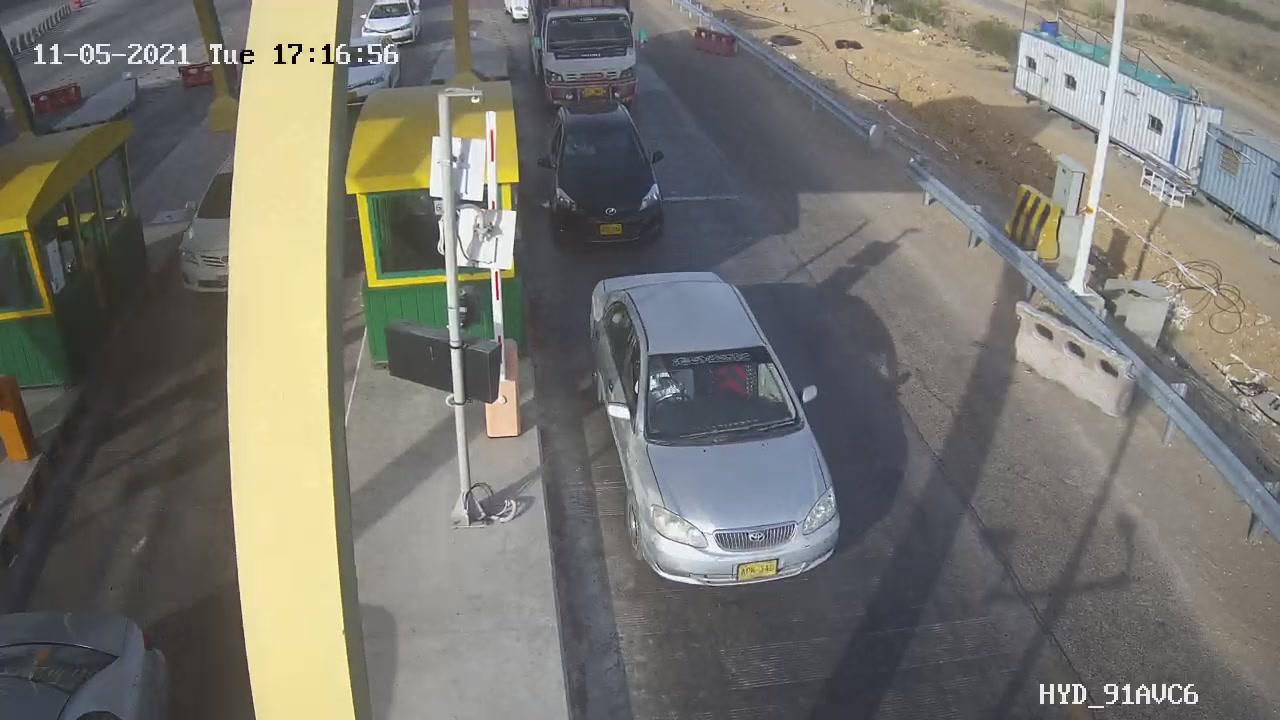F1: (527, 88, 685, 259)
